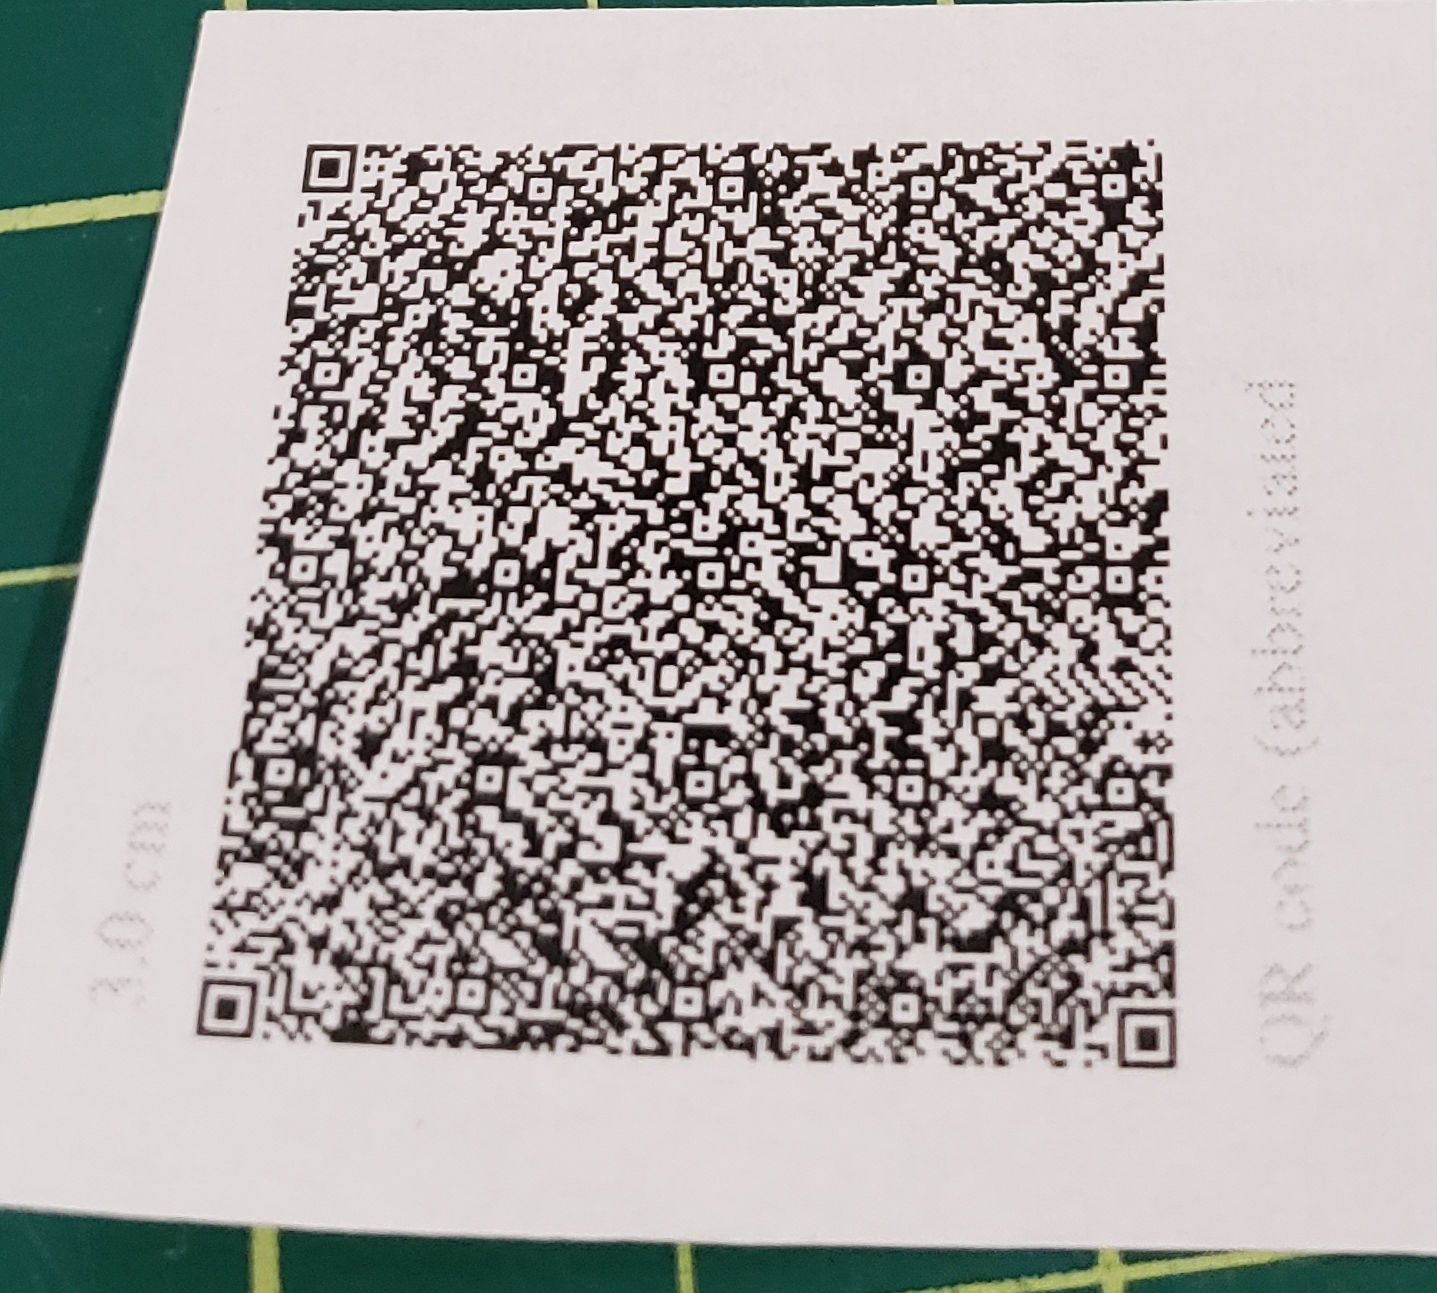QR_CODE: (179, 89, 1263, 1121)
